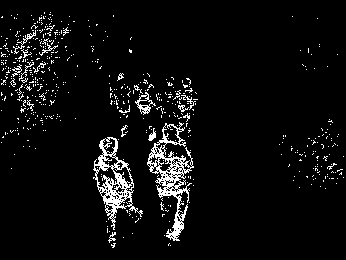person: (93, 136, 142, 247), (148, 125, 192, 242), (107, 72, 132, 135), (133, 73, 155, 138), (175, 77, 197, 136), (159, 78, 176, 130)
